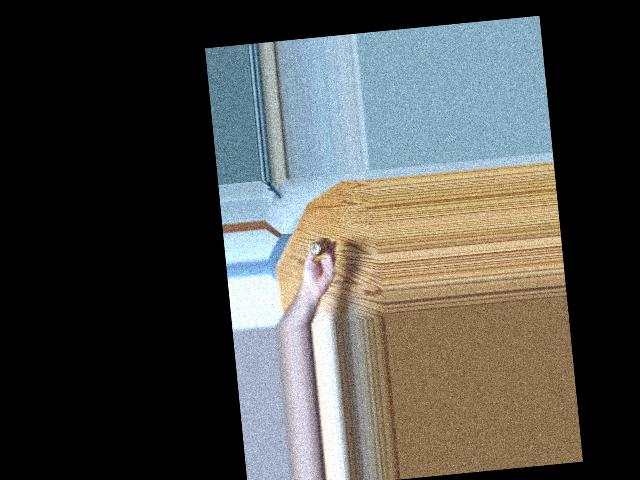sweet_potato: (304, 233, 333, 263)
